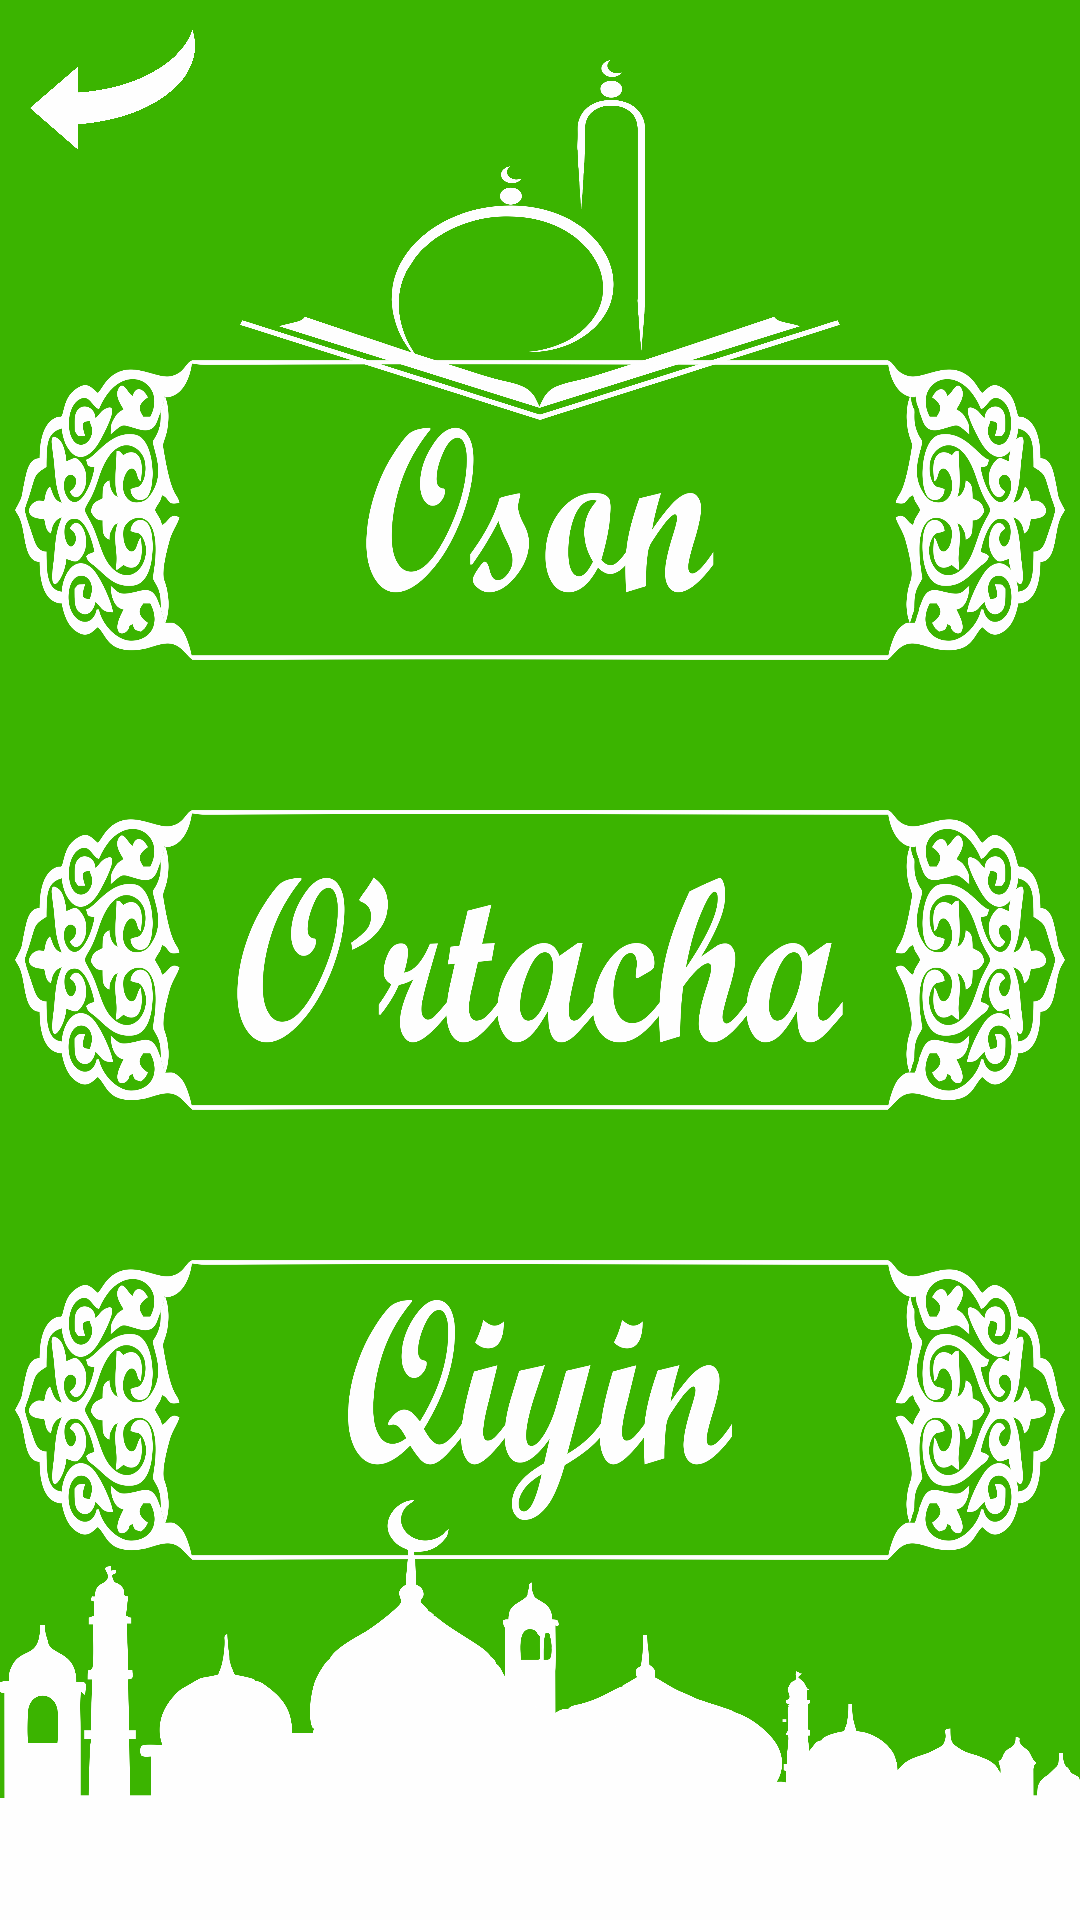

Named icons in this screenshot (1080w x 1920h) and their bounding boxes, (x1, y1, x2, y2):
strelka: (30, 30, 195, 149)
